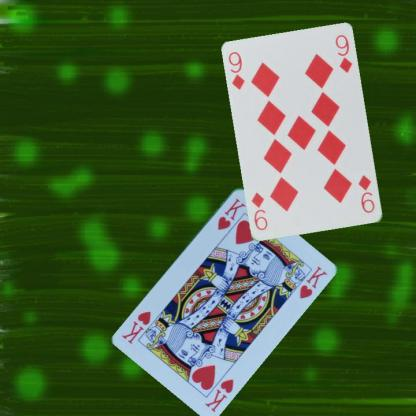9d: (356, 172, 376, 214), (226, 49, 246, 91)
Kh: (214, 195, 248, 231), (202, 376, 235, 413)
